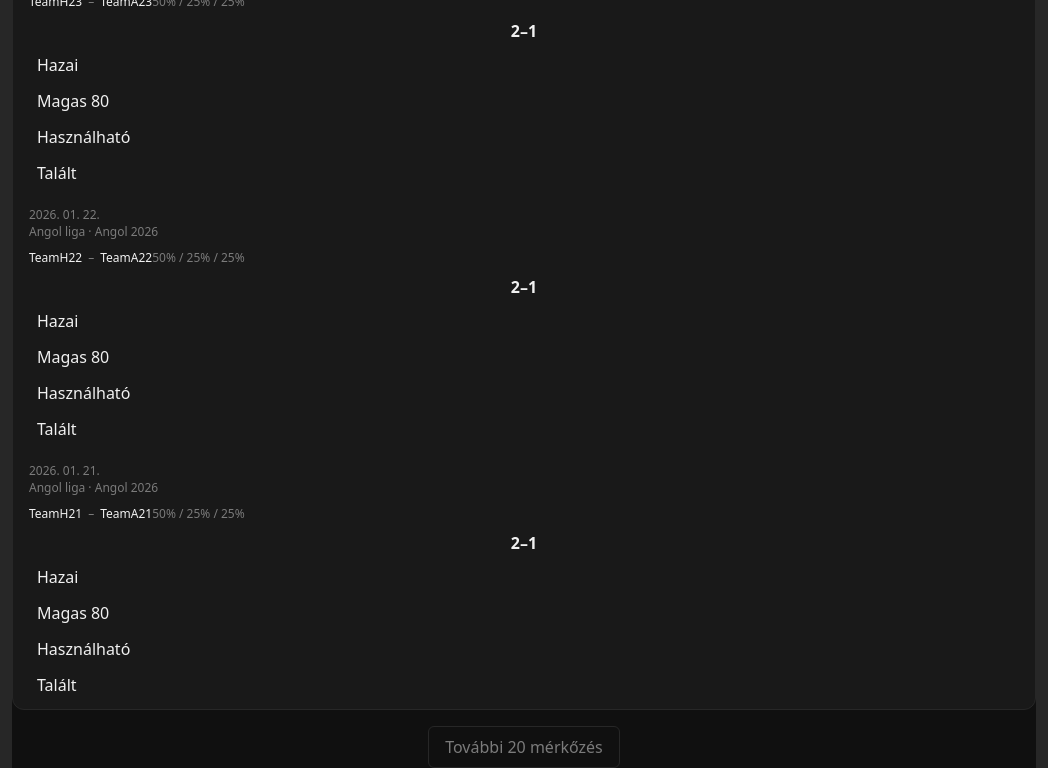
Test: MatchesPanel › loads the next page when the load-more button is clicked
The image size is (1048, 768).
(page scrolled)
Click the button "További 20 mérkőzés": (524, 747) [428,726,620,767]
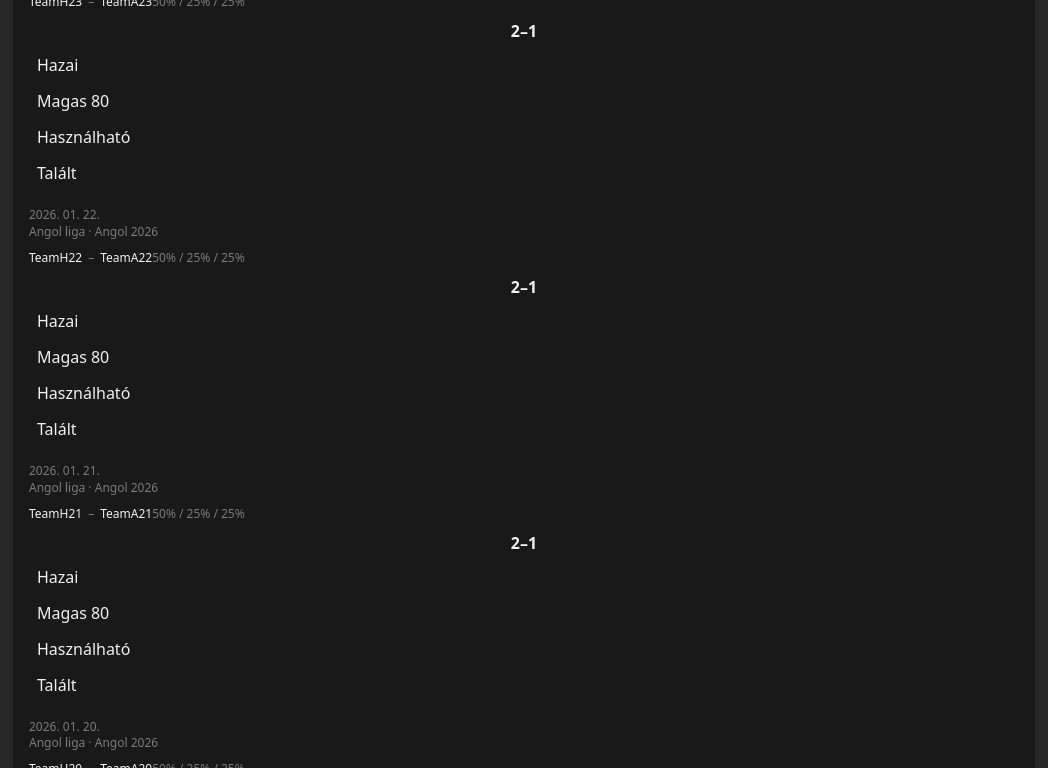
Now the button "További" is gone
